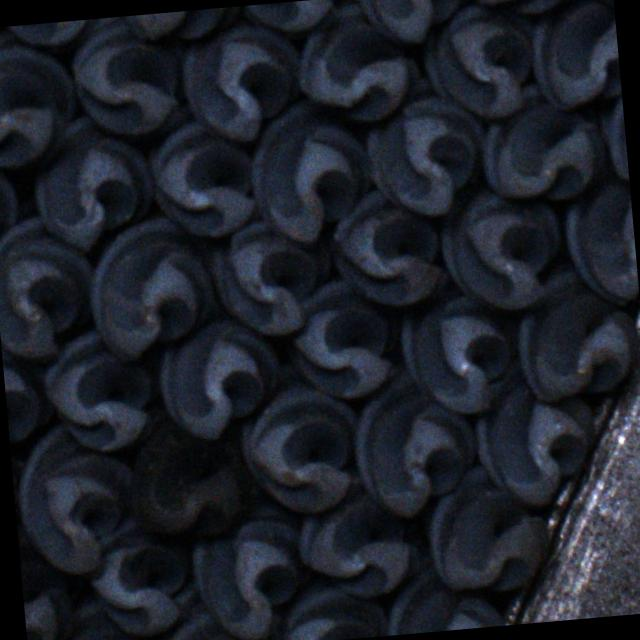tool_b: (10, 420, 143, 579), (230, 358, 362, 516), (348, 361, 482, 516), (86, 215, 220, 361), (246, 95, 376, 244), (362, 78, 494, 221), (508, 260, 638, 404), (26, 110, 156, 252), (185, 493, 310, 640), (423, 461, 554, 598), (475, 78, 608, 206), (154, 314, 286, 442), (436, 186, 565, 316), (469, 377, 597, 508), (141, 100, 257, 242), (290, 0, 418, 128), (179, 22, 308, 148), (294, 478, 422, 604), (327, 183, 452, 311), (126, 418, 254, 543), (399, 288, 522, 416), (206, 216, 332, 340), (40, 324, 160, 454), (64, 14, 184, 141), (420, 1, 540, 124), (283, 278, 398, 404), (0, 214, 98, 361), (83, 526, 191, 639), (0, 22, 79, 168), (528, 0, 622, 112), (564, 178, 640, 308), (382, 566, 504, 636), (259, 579, 386, 640), (0, 324, 53, 451), (145, 583, 259, 640), (18, 536, 76, 640), (28, 594, 151, 640), (353, 0, 467, 44), (116, 6, 247, 44), (594, 72, 630, 194), (243, 0, 356, 34), (0, 16, 120, 48), (0, 143, 20, 259), (462, 0, 586, 18)
